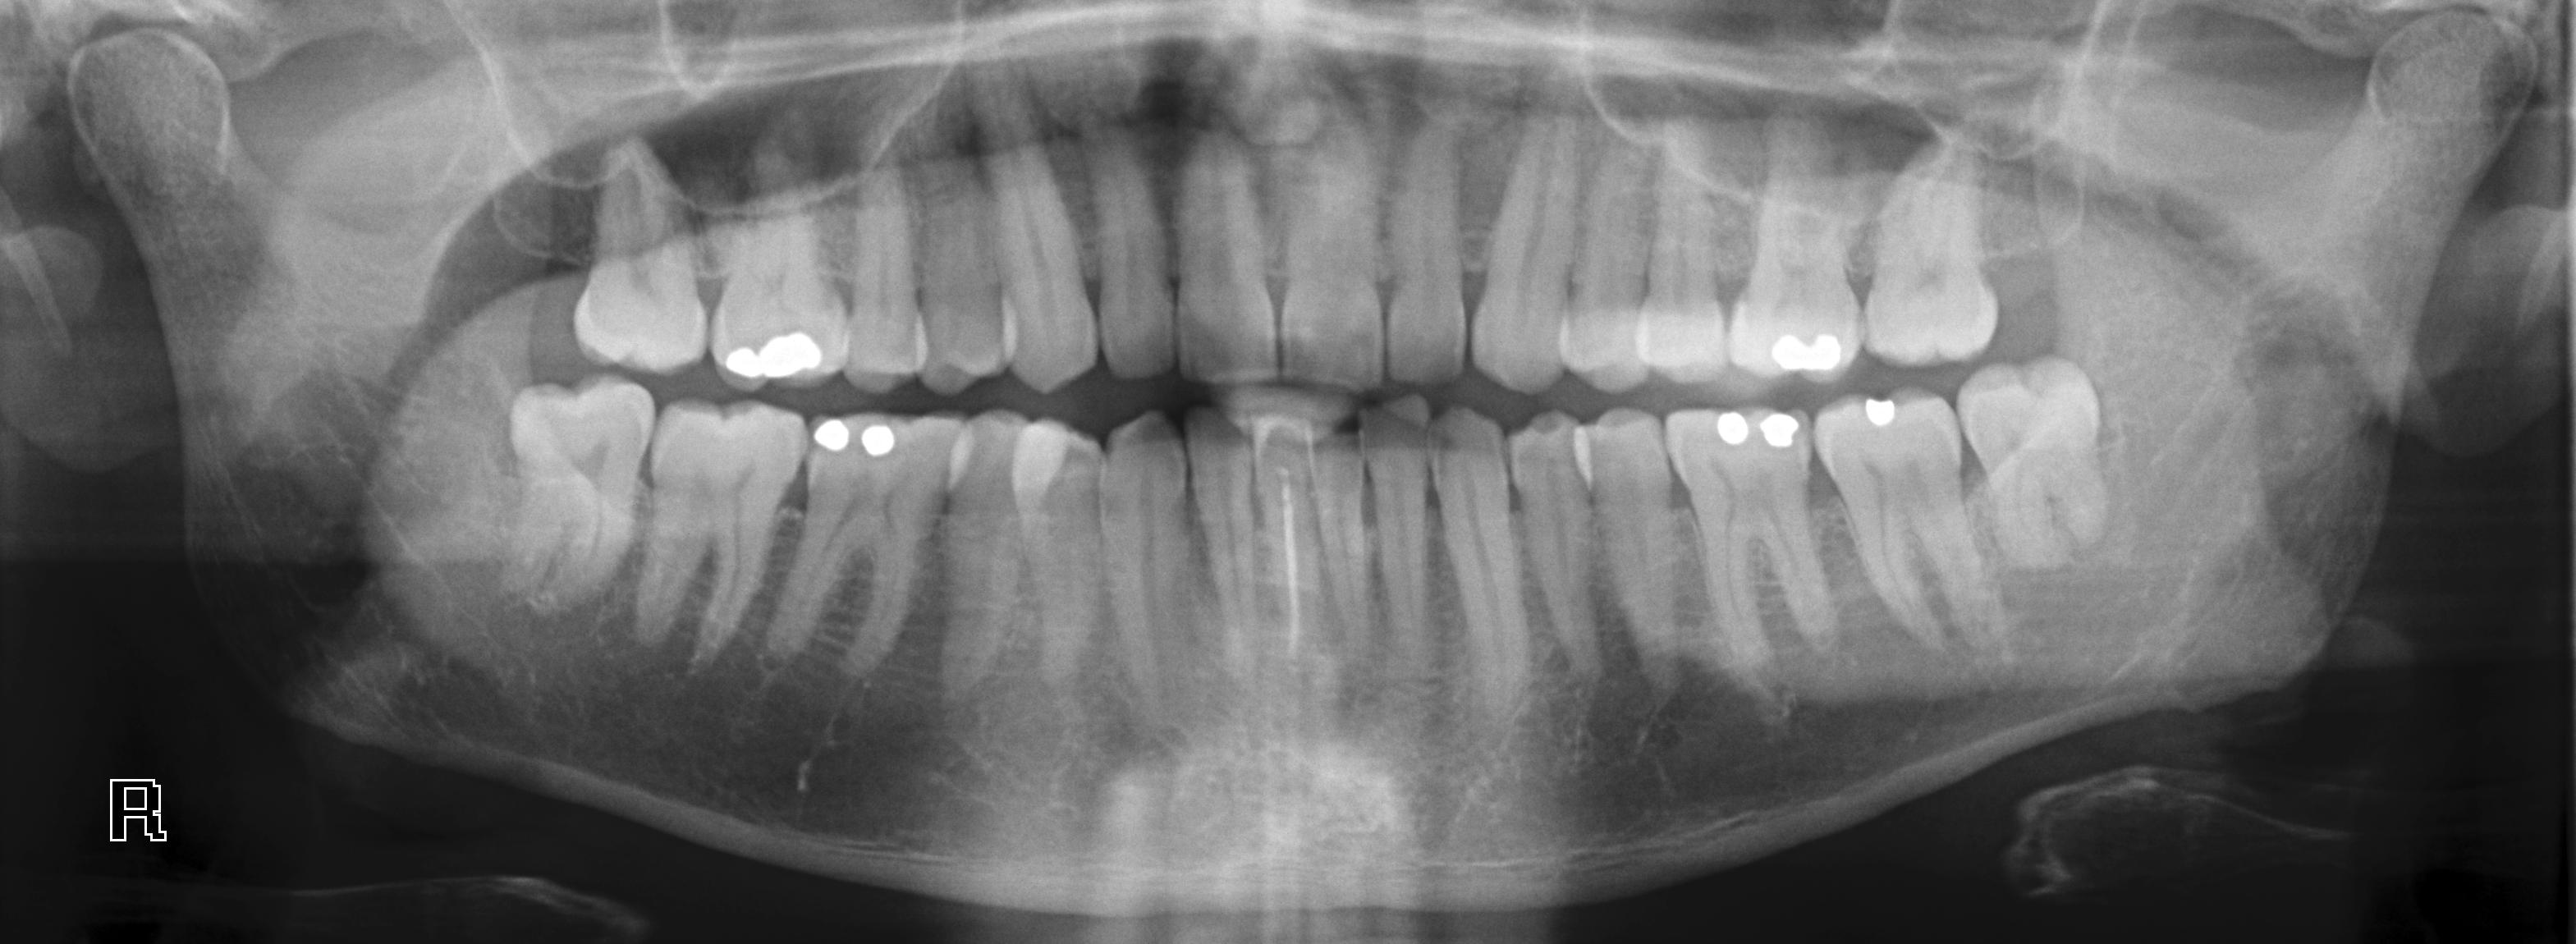Çürük: (713, 323, 840, 384), (1766, 328, 1850, 374), (1760, 404, 1802, 458), (1850, 397, 1912, 433), (1705, 410, 1753, 450), (856, 425, 905, 458), (803, 420, 851, 453)
